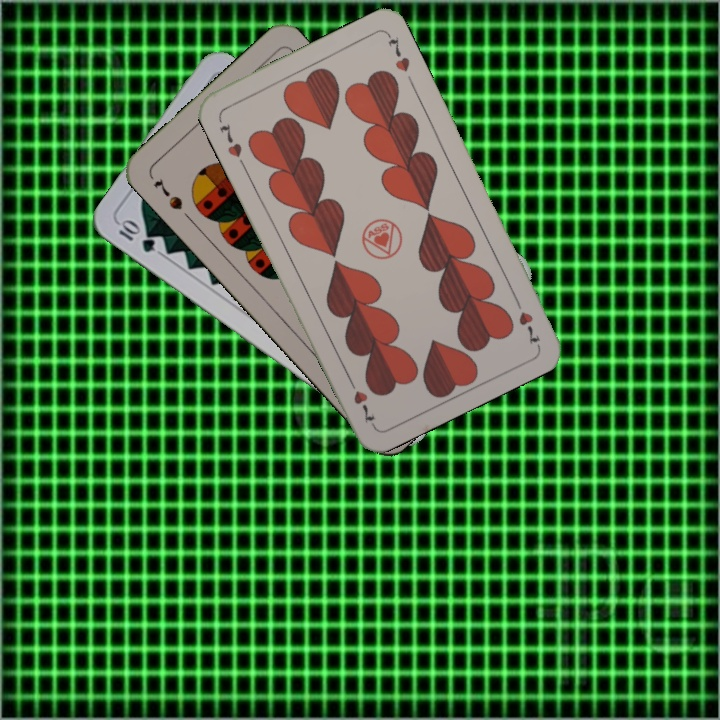G10: (114, 216, 158, 256)
H7: (510, 292, 543, 348), (215, 119, 245, 160)
S7: (150, 174, 185, 213)
